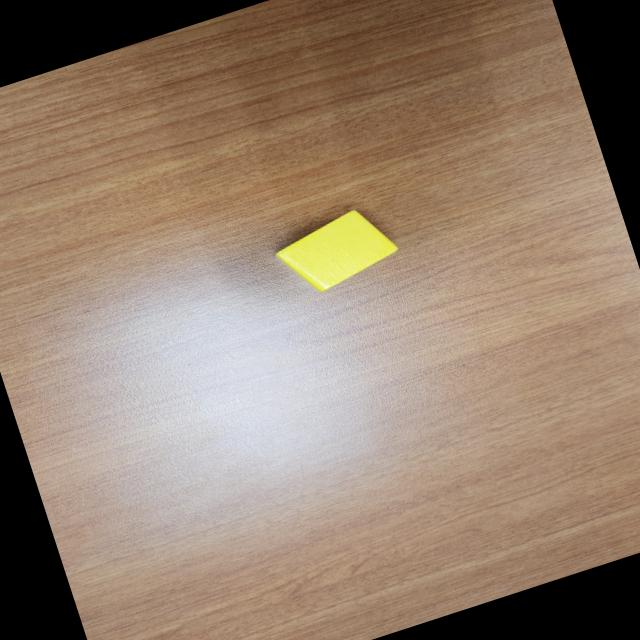yellow: (269, 200, 404, 302)
